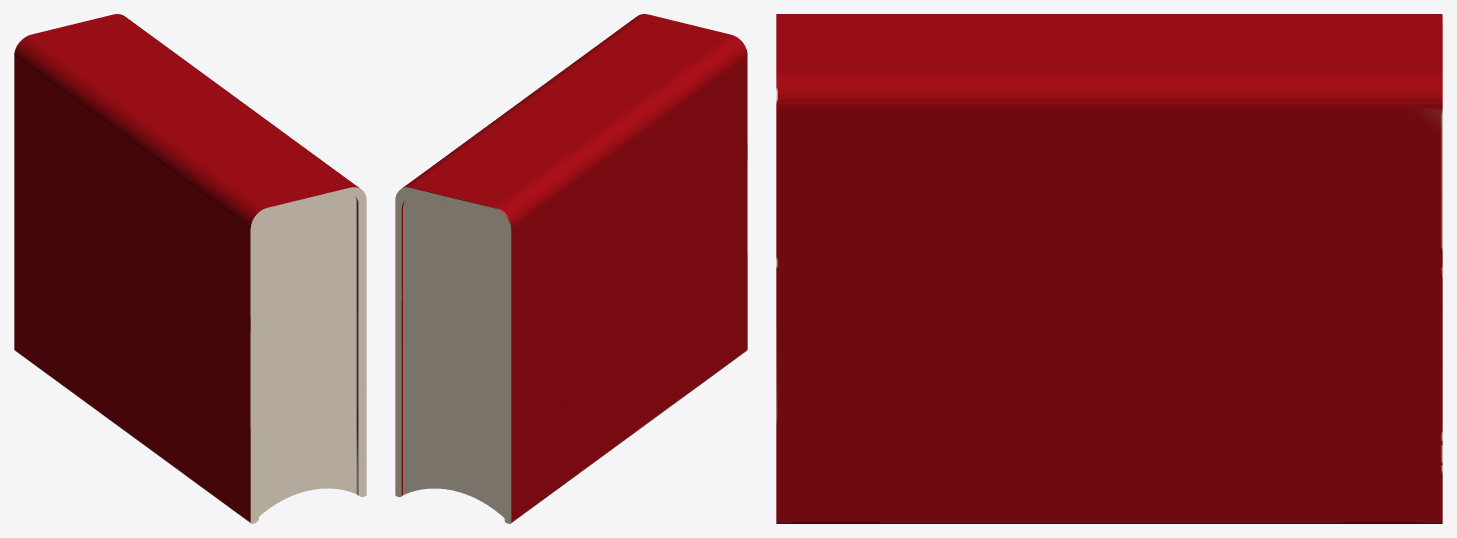
File: book.fbx
The picture shows the model from 3 angles, left to right: view 1: azimuth 30°, elevation 25°; view 2: azimuth 150°, elevation 25°; view 3: azimuth 270°, elevation 25°; orthographic projection. The views are drawn at different scales.
Parts seen in each view (by area): view 1: Book; view 2: Book; view 3: Book.
Boxes of the visible parts, bbox=[...] form: Book: bbox=[14, 14, 366, 523]; Book: bbox=[395, 14, 747, 523]; Book: bbox=[776, 14, 1442, 523].
Bounding box in the file's own units: 7000 × 18000 × 24700.
1 material, 1 textured.
